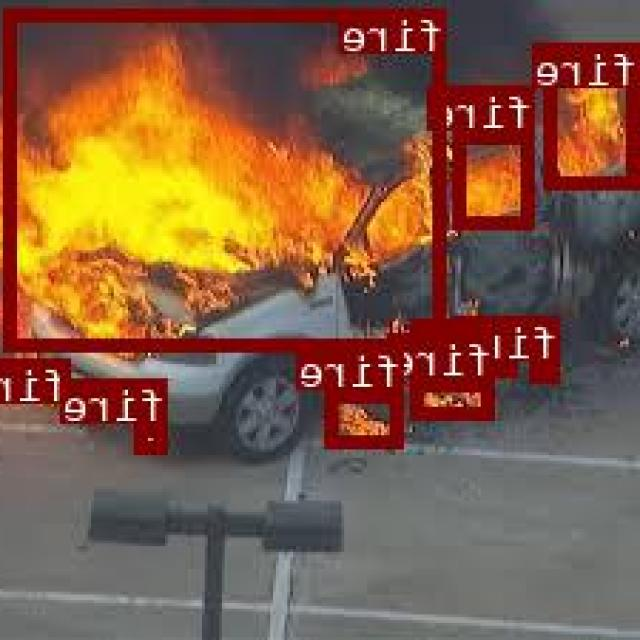fire: (8, 7, 449, 347), (549, 42, 640, 188), (456, 131, 536, 227), (327, 389, 404, 446), (415, 377, 498, 418), (10, 356, 73, 400), (138, 423, 170, 450), (535, 359, 561, 379), (489, 362, 518, 374)
